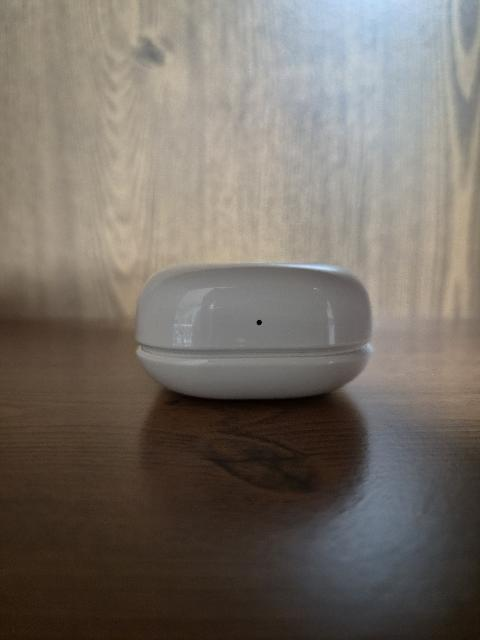earphone_case: (135, 263, 373, 400)
